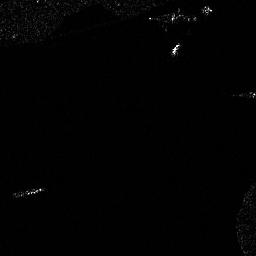ship: (12, 187, 43, 197)
